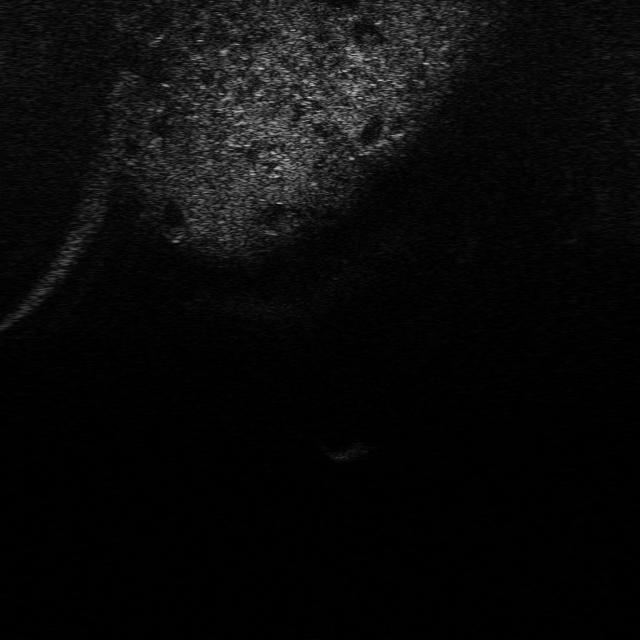cube: (317, 427, 368, 463)
